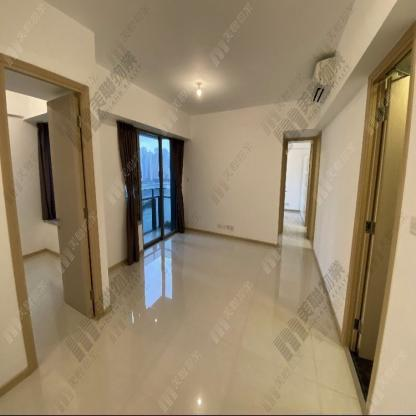AC: (308, 56, 335, 104)
